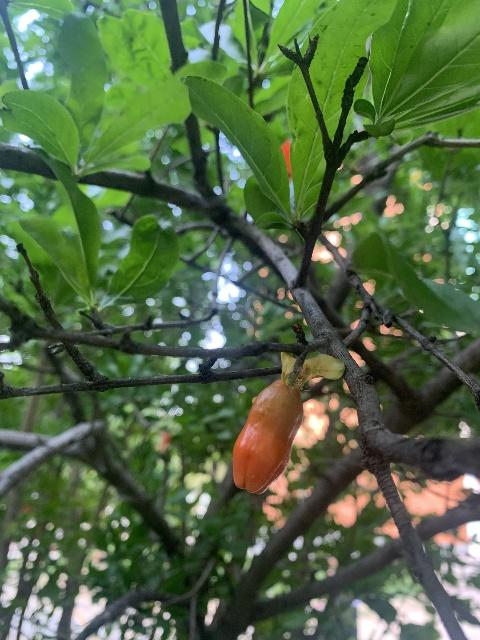bud: (232, 377, 301, 493)
